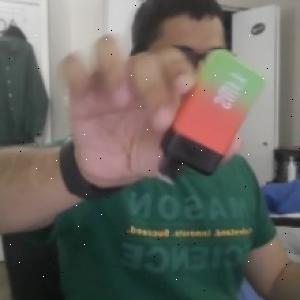Swift-E-Ciggirate: (155, 43, 267, 189)
